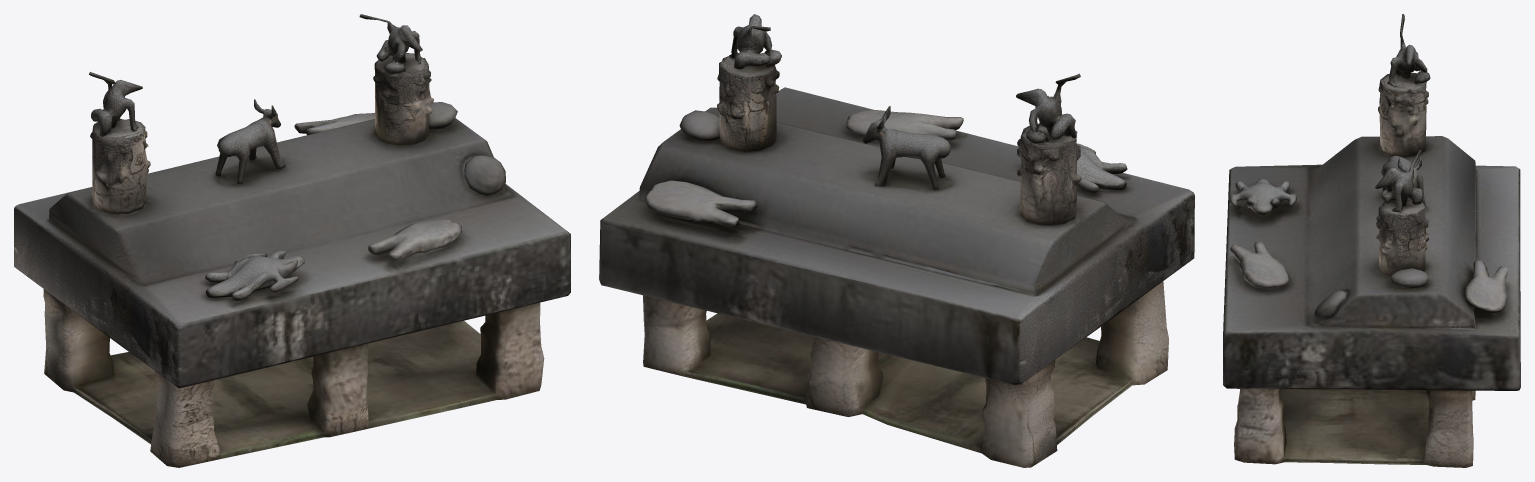
Rendered from sumba.glb.
The picture shows the model from 3 angles, left to right: view 1: azimuth 30°, elevation 25°; view 2: azimuth 150°, elevation 25°; view 3: azimuth 270°, elevation 25°; orthographic projection. The views are drawn at different scales.
Parts seen in each view (by area): view 1: tripo_node_8661eae9-60a0-4a99-b5f2-436967231e88; view 2: tripo_node_8661eae9-60a0-4a99-b5f2-436967231e88; view 3: tripo_node_8661eae9-60a0-4a99-b5f2-436967231e88.
Part boxes in pixels (<box>): tripo_node_8661eae9-60a0-4a99-b5f2-436967231e88: <box>14,14,570,467</box>; tripo_node_8661eae9-60a0-4a99-b5f2-436967231e88: <box>599,14,1194,467</box>; tripo_node_8661eae9-60a0-4a99-b5f2-436967231e88: <box>1223,14,1520,467</box>.
Bounding box in the file's own units: 0.998 × 0.8066 × 0.7402.
Materials: 1 (1 with a texture image).
